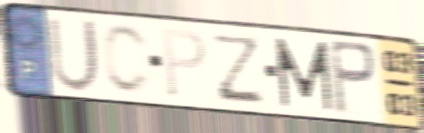C: (101, 22, 153, 98)
M: (272, 35, 335, 113)
P: (327, 37, 379, 118), (160, 27, 209, 101)
U: (45, 14, 102, 95)
Z: (214, 31, 265, 105)
